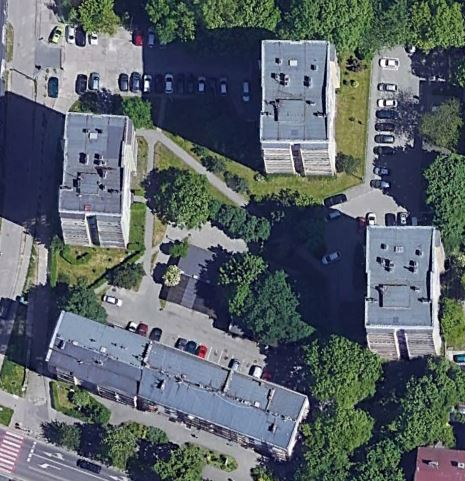block of flats: (42, 306, 316, 465), (255, 39, 343, 179), (363, 222, 449, 365), (57, 107, 140, 250)
